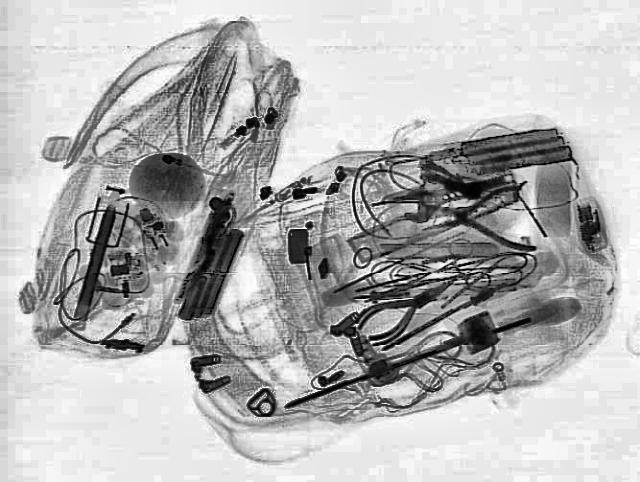Pliers: (341, 265, 471, 349), (418, 185, 538, 253)
Wrench: (390, 162, 522, 226)
